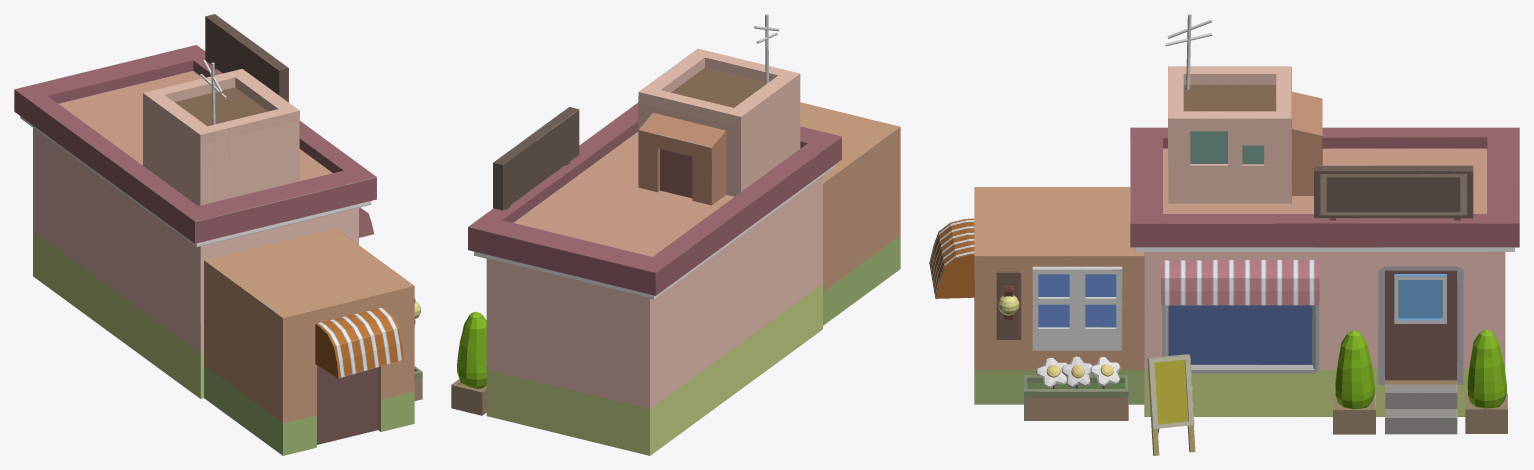
File: 4-16合并烘焙v(1).fbx
3 renders of one model, left to right at view 1: azimuth 30°, elevation 25°; view 2: azimuth 150°, elevation 25°; view 3: azimuth 270°, elevation 25°, orthographic. The views are drawn at different scales.
Visible parts, largest first — view 1: 平面.014; view 2: 平面.014; view 3: 平面.014.
Boxes of the visible parts, box(x1,y1,x2,y2) form: 平面.014: box(14, 14, 422, 455); 平面.014: box(451, 14, 900, 455); 平面.014: box(929, 14, 1519, 455).
Size of the model in its own units: 681 by 939 by 1441.
